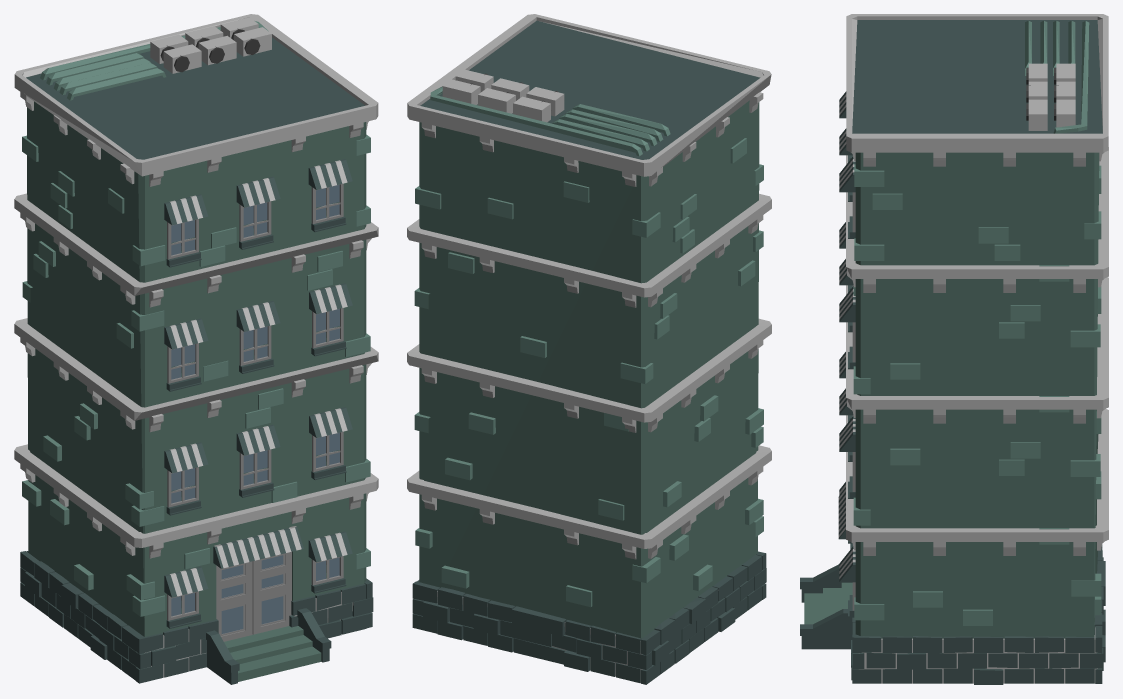
The model's file is b_4story.glb.
3 renders of one model, left to right at view 1: azimuth 30°, elevation 25°; view 2: azimuth 150°, elevation 25°; view 3: azimuth 270°, elevation 25°, orthographic. The views are drawn at different scales.
Visible parts, largest first — view 1: 4Story_Mat; view 2: 4Story_Mat; view 3: 4Story_Mat.
Boxes of the visible parts, x1=… form: 4Story_Mat: x1=14, y1=14, x2=378, y2=684; 4Story_Mat: x1=407, y1=14, x2=771, y2=684; 4Story_Mat: x1=800, y1=14, x2=1108, y2=684.
Bounding box in the file's own units: 2.42 × 5.08 × 2.53.
